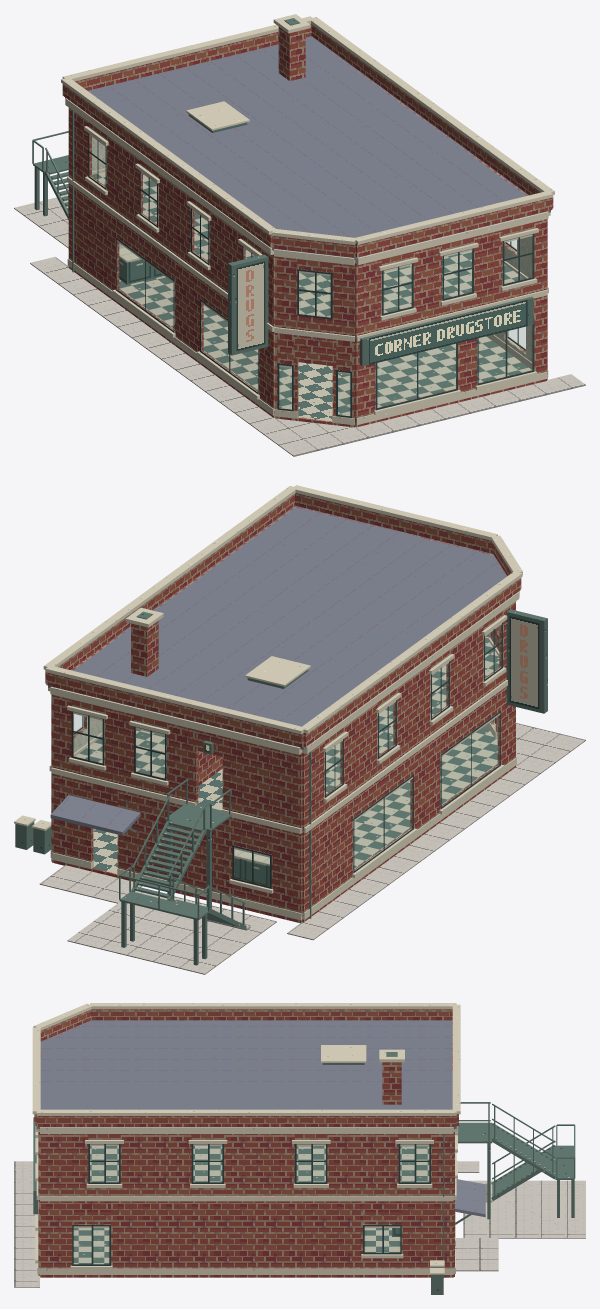
The model's file is corner-drugstore-retail.glb.
3 renders of one model, top to bottom at view 1: azimuth 30°, elevation 25°; view 2: azimuth 150°, elevation 25°; view 3: azimuth 270°, elevation 25°, orthographic. The views are drawn at different scales.
Visible parts, largest first — view 1: structure__wall_brick, structure__roof_membrane, structure__detail_stone, structure__glass_shop, structure__ground_floor, lot__ground_paving, sign_name, projecting_trade_sign__sign_name, exterior_stairs__detail_steel, structure__detail_steel, projecting_trade_sign__detail_steel, structure__detail_panels; view 2: structure__wall_brick, structure__roof_membrane, structure__detail_stone, lot__ground_paving, structure__glass_shop, structure__ground_floor, exterior_stairs__detail_steel, projecting_trade_sign__sign_name, projecting_trade_sign__detail_steel, structure__detail_steel, structure__detail_panels; view 3: structure__wall_brick, structure__roof_membrane, structure__detail_stone, lot__ground_paving, structure__glass_shop, structure__ground_floor, exterior_stairs__detail_steel, structure__detail_steel.
Part boxes in pixels (bbox=[...]): structure__wall_brick: bbox=[62, 24, 553, 427]; structure__roof_membrane: bbox=[65, 36, 550, 259]; structure__detail_stone: bbox=[61, 14, 554, 425]; structure__glass_shop: bbox=[88, 133, 534, 417]; structure__ground_floor: bbox=[92, 171, 531, 421]; lot__ground_paving: bbox=[14, 194, 585, 456]; sign_name: bbox=[369, 299, 527, 364]; projecting_trade_sign__sign_name: bbox=[236, 261, 265, 350]; exterior_stairs__detail_steel: bbox=[32, 131, 68, 219]; structure__detail_steel: bbox=[72, 18, 533, 366]; projecting_trade_sign__detail_steel: bbox=[228, 254, 268, 355]; structure__detail_panels: bbox=[119, 258, 165, 284]; structure__wall_brick: bbox=[45, 493, 521, 923]; structure__roof_membrane: bbox=[48, 505, 506, 835]; structure__detail_stone: bbox=[43, 485, 522, 920]; lot__ground_paving: bbox=[39, 719, 585, 974]; structure__glass_shop: bbox=[71, 622, 502, 888]; structure__ground_floor: bbox=[75, 640, 499, 873]; exterior_stairs__detail_steel: bbox=[119, 778, 246, 965]; projecting_trade_sign__sign_name: bbox=[509, 616, 539, 708]; projecting_trade_sign__detail_steel: bbox=[506, 609, 547, 713]; structure__detail_steel: bbox=[61, 611, 311, 918]; structure__detail_panels: bbox=[234, 857, 269, 886]; structure__wall_brick: bbox=[34, 1009, 458, 1277]; structure__roof_membrane: bbox=[36, 1020, 485, 1217]; structure__detail_stone: bbox=[32, 1003, 460, 1274]; lot__ground_paving: bbox=[14, 1161, 585, 1287]; structure__glass_shop: bbox=[72, 1144, 430, 1265]; structure__ground_floor: bbox=[72, 1146, 429, 1264]; exterior_stairs__detail_steel: bbox=[458, 1102, 575, 1219]; structure__detail_steel: bbox=[33, 1052, 475, 1277].
Size of what is drawn, in the model's own units: 15.75 by 10.58 by 27.47.
Materials: 12 (12 with a texture image).
